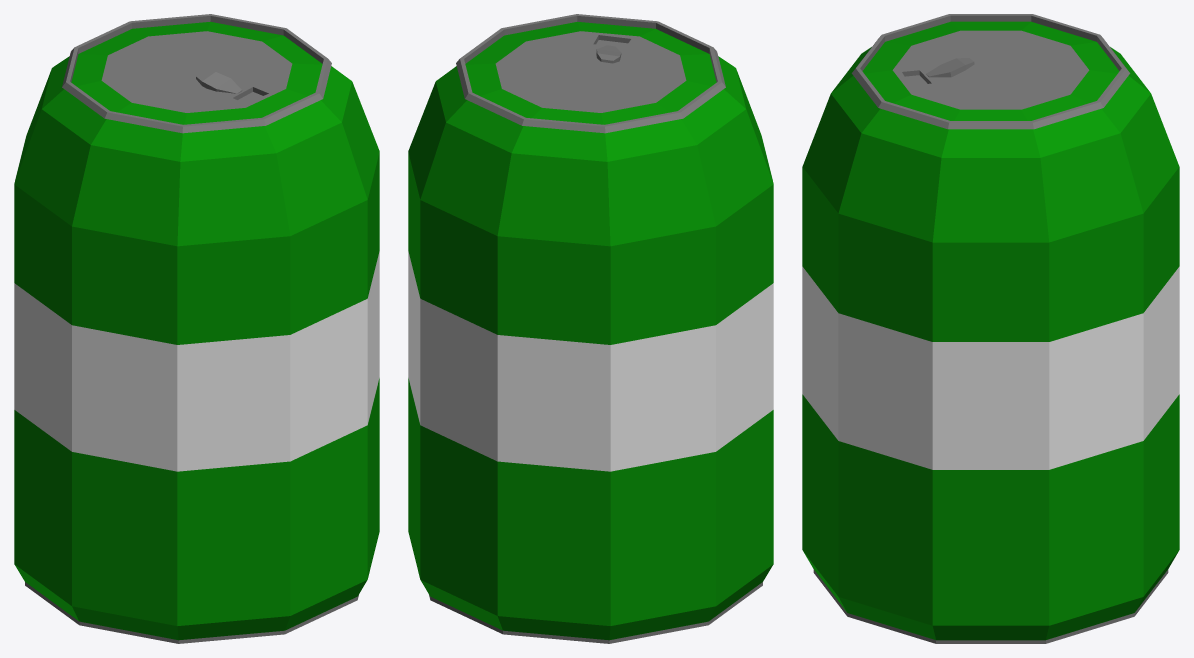
File: LataCerveza.glb
The picture shows the model from 3 angles, left to right: view 1: azimuth 30°, elevation 25°; view 2: azimuth 150°, elevation 25°; view 3: azimuth 270°, elevation 25°; orthographic projection.
Visible parts, largest first — view 1: lata cerveza; view 2: lata cerveza; view 3: lata cerveza.
Boxes of the visible parts, box(x1,y1,x2,y2) form: lata cerveza: box(14, 14, 379, 643); lata cerveza: box(408, 14, 773, 643); lata cerveza: box(802, 14, 1179, 643).
Bounding box in the file's own units: 0.7445 × 1.17 × 0.7828.
